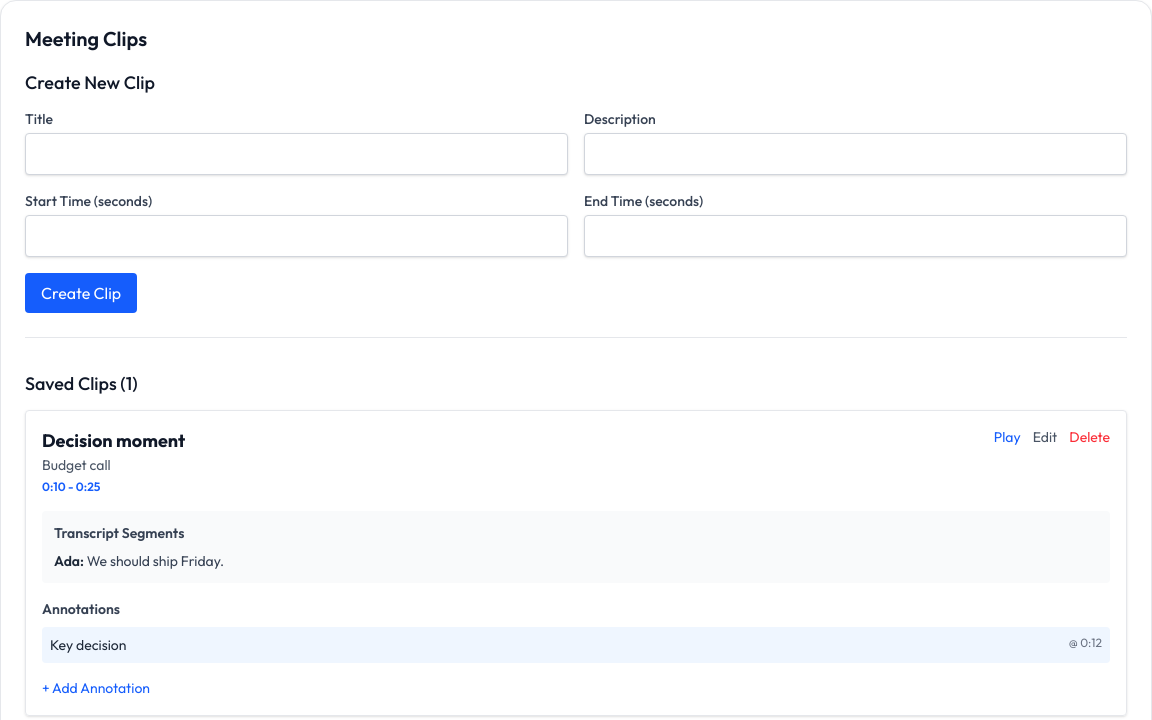
Test: ClipManager (#1987) › updates a clip through meetingClipApi.updateClip
Check: the heading "Decision moment" is shown, box [42,427,185,455]
Click the button "Edit" at (1045, 437), box [1033,427,1057,447]
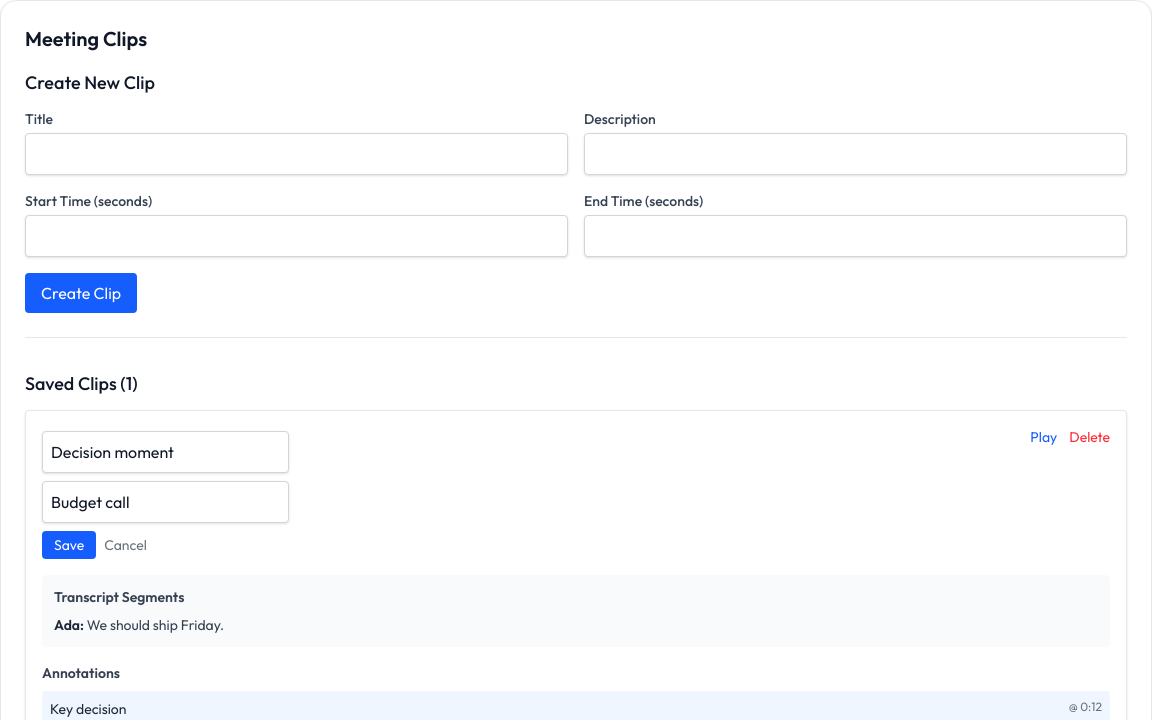
Replace the text in the 1st field showing "Decision moment" with "Renamed clip" at (166, 452), box [42,431,289,473]
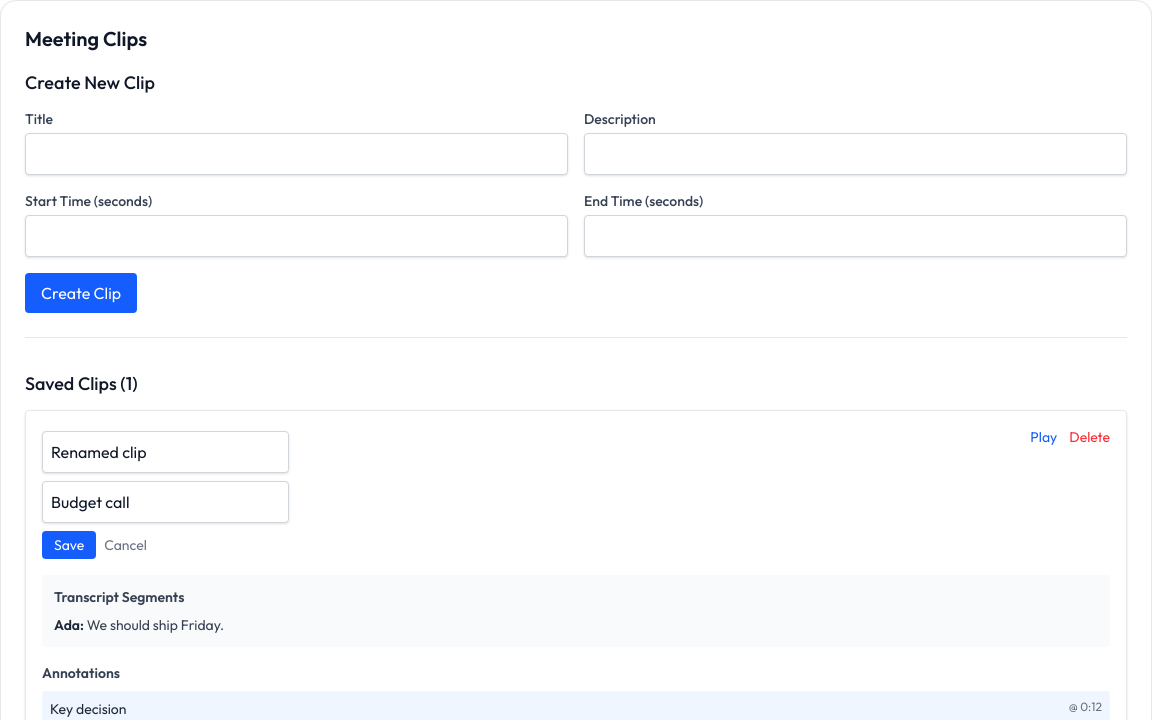
Click the button "Save" at (69, 545), box [42,531,96,559]
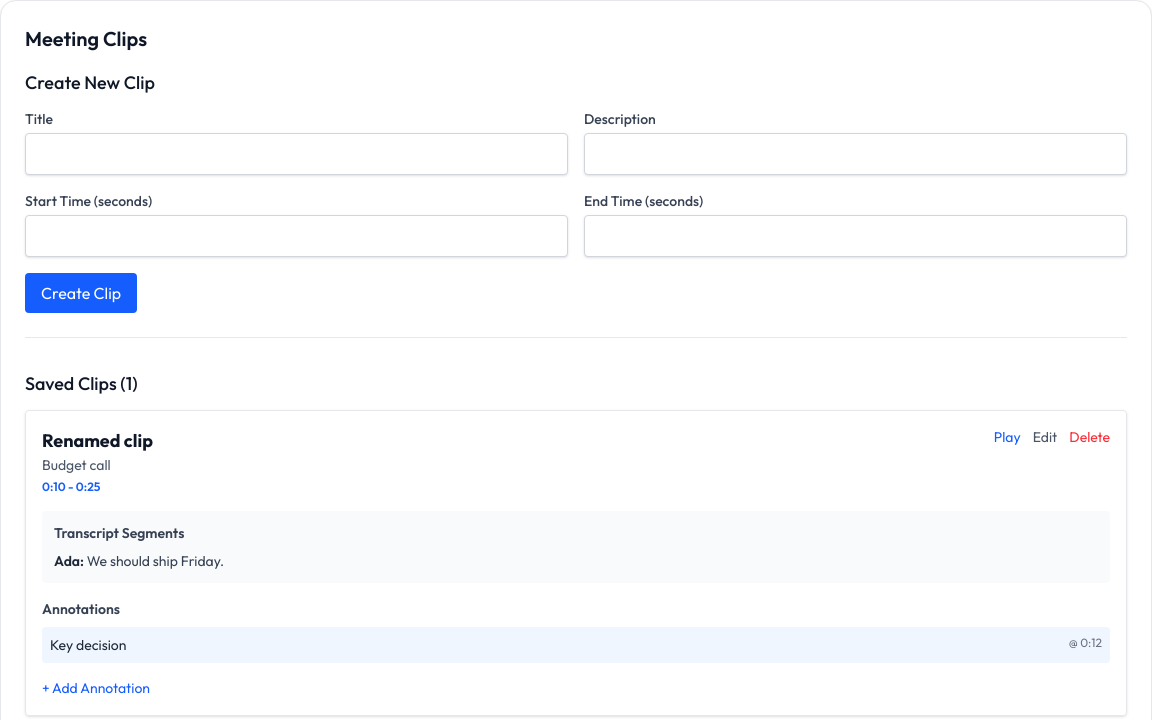
Check: the heading "Renamed clip" is shown, box [42,427,153,455]
